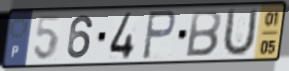4: (107, 10, 136, 62)
5: (32, 14, 63, 63)
6: (66, 14, 95, 61)
B: (183, 10, 223, 59)
P: (140, 9, 178, 62)
U: (220, 7, 260, 59)
